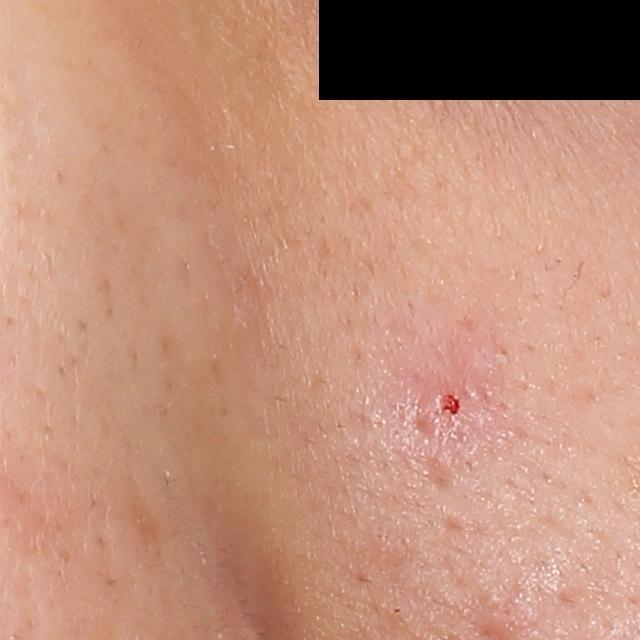atrophic_scar: (418, 455, 461, 494)
papule: (410, 377, 476, 444)
